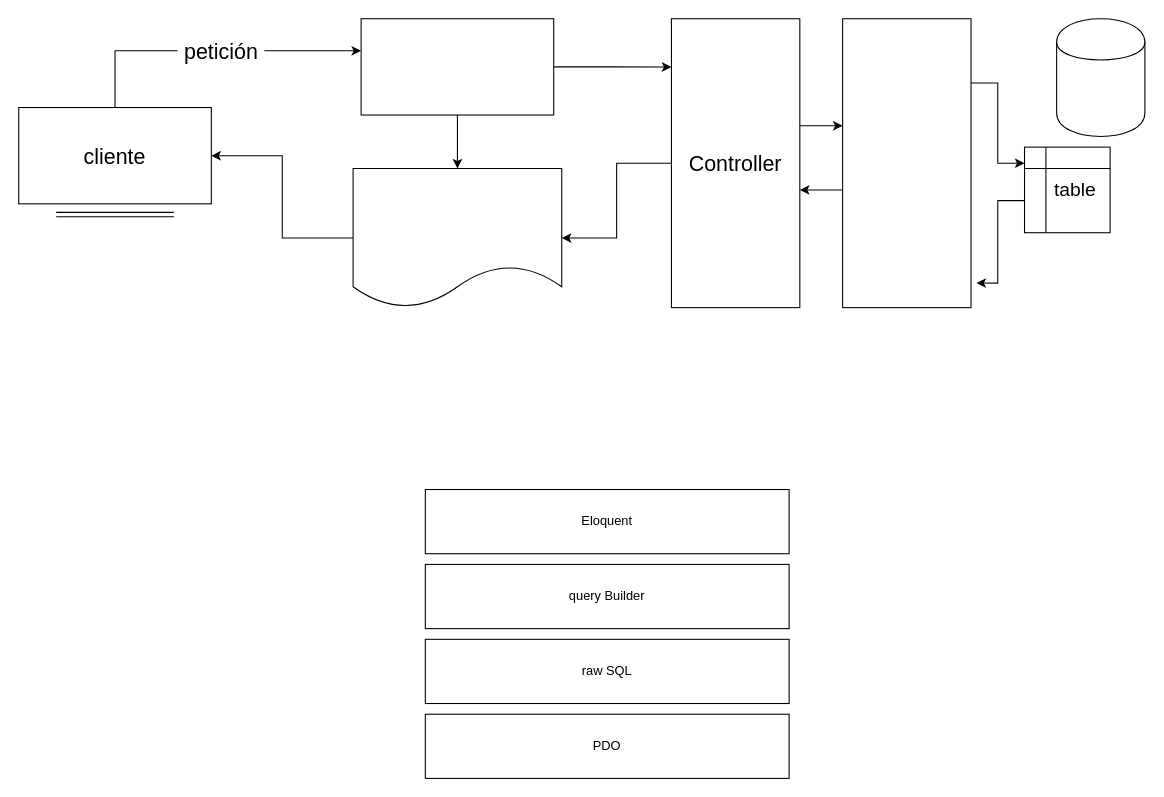
The diagram is 1164 pixels wide and 797 high, and some of its shapes have lost their labels. Each missing label, with the box of its shape:
enrutador: (360, 18, 554, 115)
Model: (842, 18, 971, 308)
vista: (352, 167, 562, 308)
